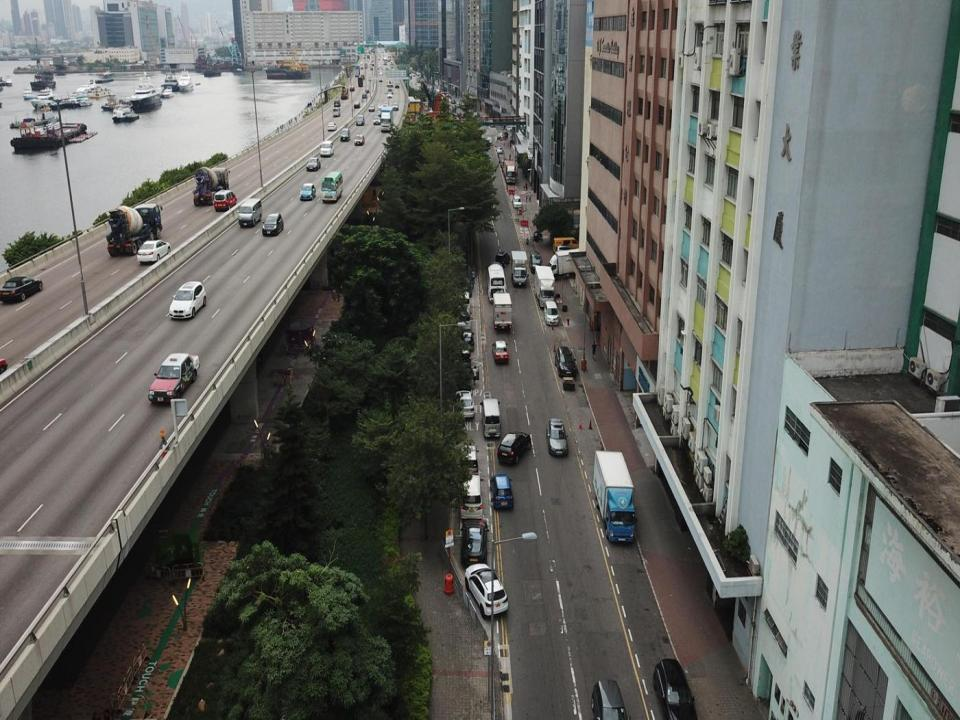bus: (485, 262, 507, 304), (320, 172, 343, 204)
car: (652, 658, 699, 719), (147, 352, 200, 404), (464, 561, 508, 620), (591, 678, 632, 719), (169, 280, 206, 320), (496, 429, 534, 467), (460, 516, 488, 567), (0, 276, 43, 303), (488, 471, 514, 510), (546, 416, 568, 458), (137, 239, 172, 264), (553, 344, 577, 378), (452, 386, 474, 420), (214, 188, 237, 210), (262, 213, 284, 235), (492, 338, 510, 364), (543, 301, 558, 325), (299, 181, 317, 201), (528, 250, 541, 274), (461, 330, 475, 352), (494, 250, 511, 268), (458, 309, 472, 330), (556, 245, 575, 259), (455, 289, 468, 309), (305, 156, 322, 171), (320, 140, 335, 157), (511, 193, 522, 208), (340, 127, 351, 141), (353, 132, 364, 146), (355, 114, 366, 126), (326, 120, 337, 130), (332, 106, 341, 117), (373, 115, 381, 125), (352, 100, 360, 109), (333, 99, 341, 107), (368, 103, 375, 112), (392, 102, 398, 112), (361, 90, 367, 99), (349, 84, 355, 92), (388, 90, 392, 99), (396, 80, 400, 88)
truck: (592, 448, 637, 544), (106, 202, 164, 256), (192, 166, 232, 206), (550, 248, 582, 278), (534, 265, 556, 308), (493, 290, 512, 330), (511, 249, 527, 286), (380, 105, 394, 133), (502, 158, 515, 186), (340, 85, 349, 100), (377, 103, 385, 117), (386, 79, 394, 93), (358, 76, 364, 88), (354, 68, 359, 78)
van: (460, 470, 485, 521), (478, 396, 502, 441), (458, 441, 480, 478), (237, 198, 263, 228)
